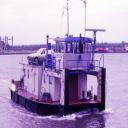tugboat: (9, 29, 108, 119)
